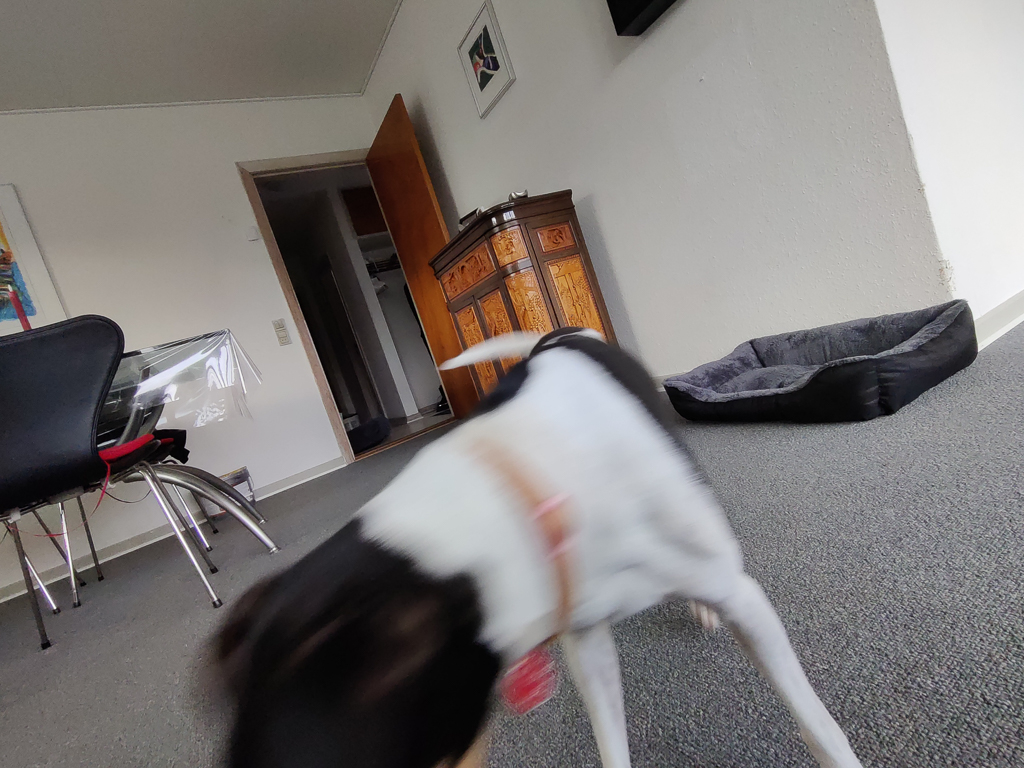Dog: (163, 312, 887, 768)
